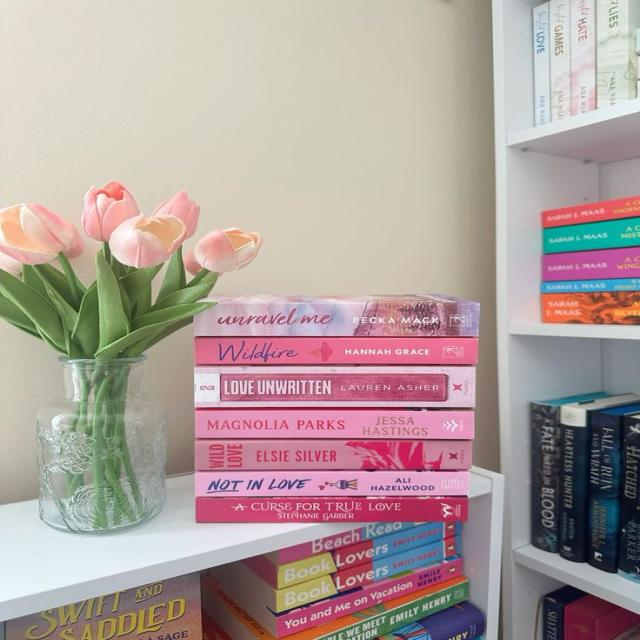book: (195, 367, 476, 409), (196, 304, 479, 336), (195, 408, 474, 439), (195, 440, 472, 467), (196, 339, 478, 364), (198, 499, 468, 522), (196, 472, 469, 494)
flowers: (0, 181, 262, 534)
